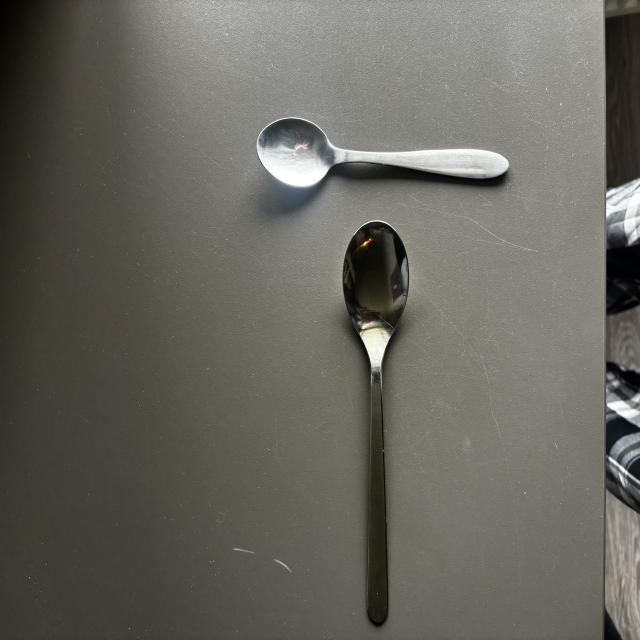spoon: (341, 223, 411, 629), (257, 111, 509, 193)
